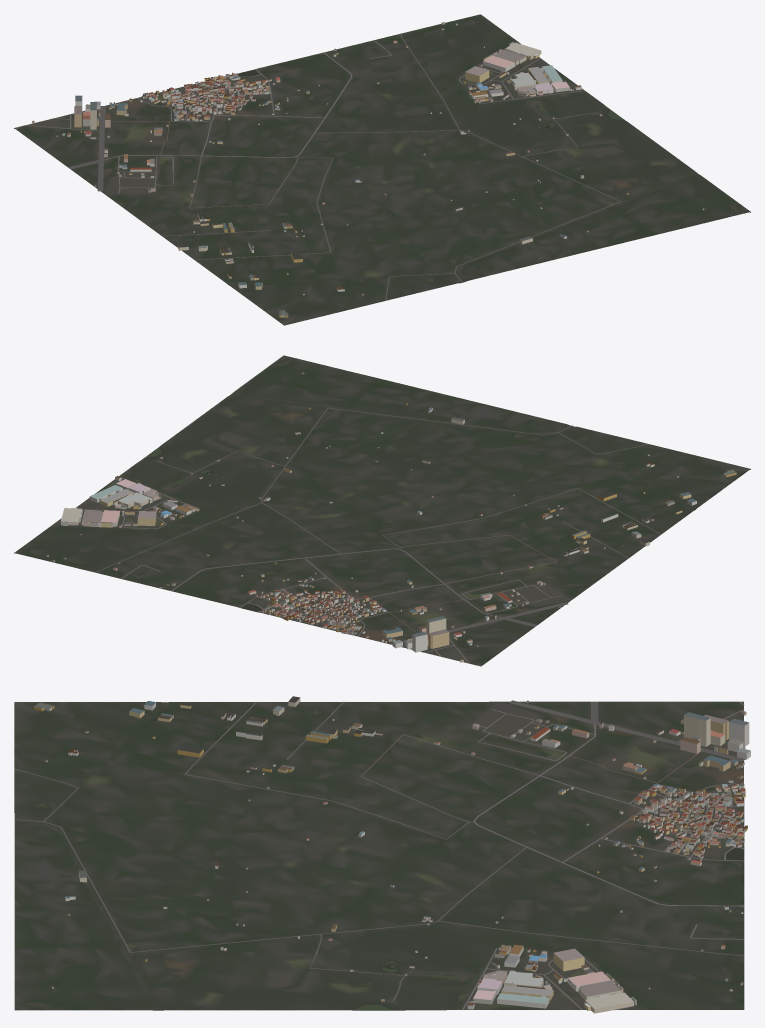
3 renders of one model, top to bottom at view 1: azimuth 30°, elevation 25°; view 2: azimuth 150°, elevation 25°; view 3: azimuth 270°, elevation 25°, orthographic. The views are drawn at different scales.
Visible parts, largest first — view 1: ground, buildings, roads, water; view 2: ground, buildings, roads, water; view 3: ground, buildings, roads, water.
Boxes of the visible parts, x1,y1,x2,y2 form: ground: [14, 14, 750, 325]; buildings: [32, 22, 704, 317]; roads: [15, 34, 621, 300]; water: [228, 69, 696, 284]; ground: [14, 355, 750, 666]; buildings: [46, 372, 736, 662]; roads: [60, 407, 661, 665]; water: [141, 394, 694, 611]; ground: [14, 701, 744, 1010]; buildings: [33, 696, 750, 1013]; roads: [14, 700, 745, 1010]; water: [15, 702, 743, 1010].
Size of the model in its own units: 1421 by 60.8 by 1416.
